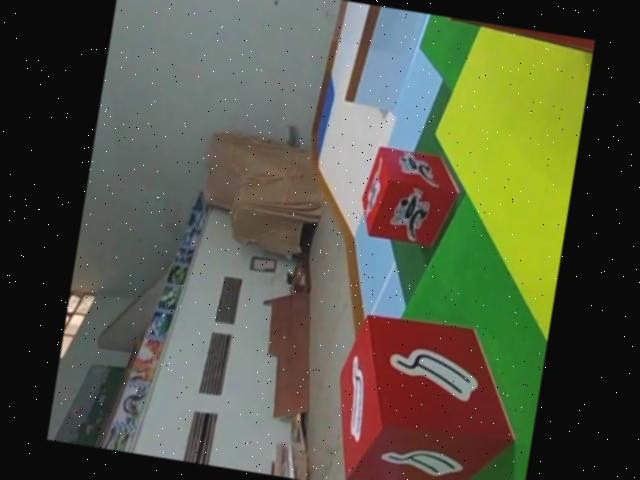R1: (354, 142, 465, 250)
R2 Real: (318, 304, 533, 480)
